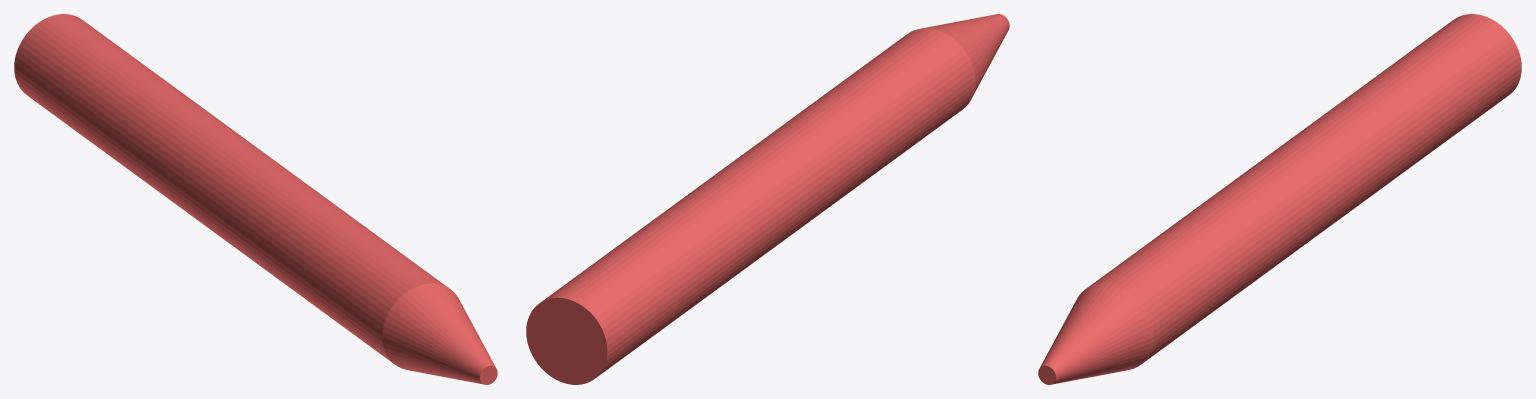
3 views of the same model, side by side, from view 1: azimuth 30°, elevation 25°; view 2: azimuth 150°, elevation 25°; view 3: azimuth 330°, elevation 25° (orthographic).
Visible parts, largest first — view 1: world; view 2: world; view 3: world.
Boxes of the visible parts, x1,y1,x2,y2 form: world: [14, 14, 497, 384]; world: [526, 14, 1009, 384]; world: [1038, 14, 1521, 384].
Bounding box in the file's own units: 0.00995 × 0.00995 × 0.0921.
